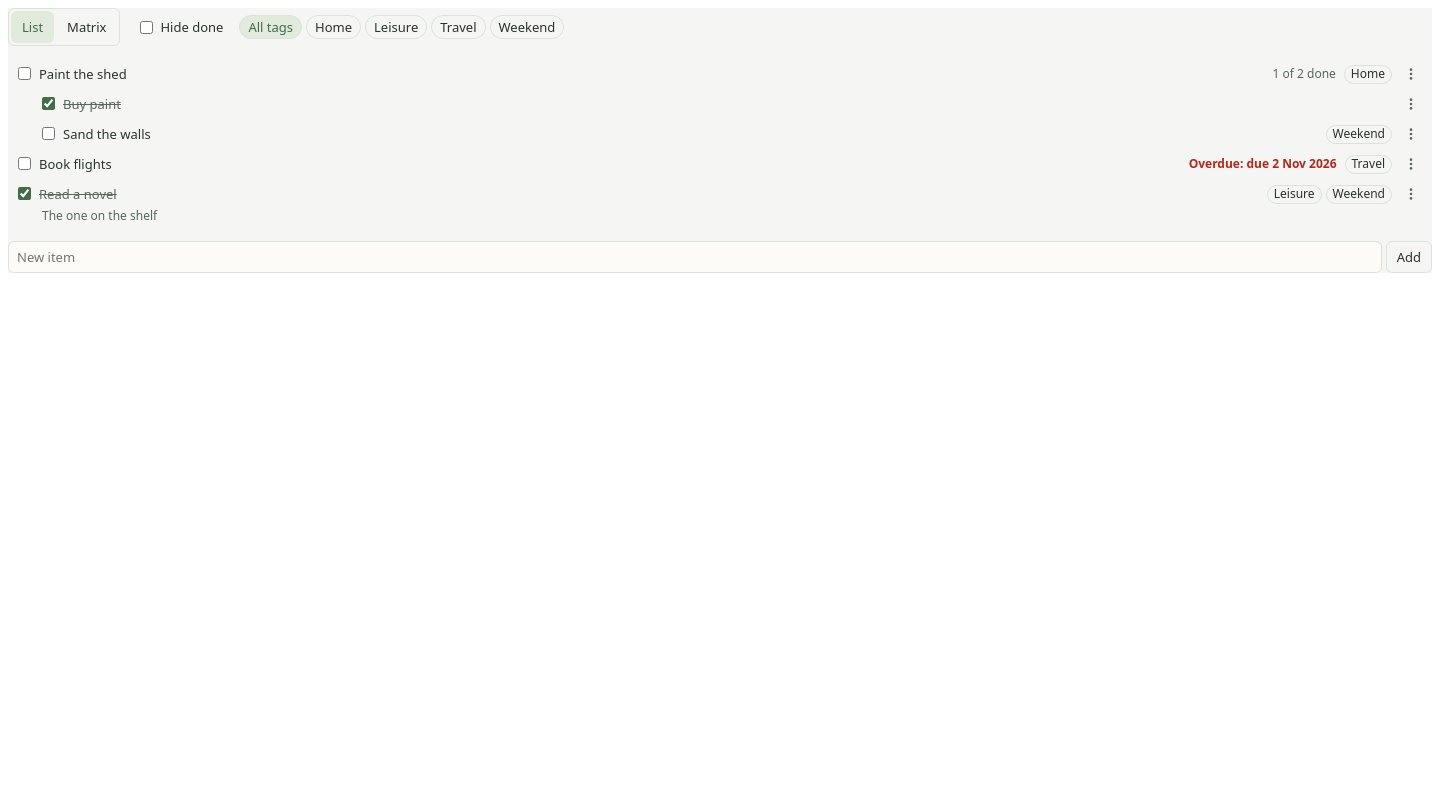
Test: an item's details › closes without saving on Cancel or Escape, giving the focus back
The image size is (1440, 810).
Click the button named "Actions: Book flights".
click(1411, 164)  # box 1400,153 -> 1422,175
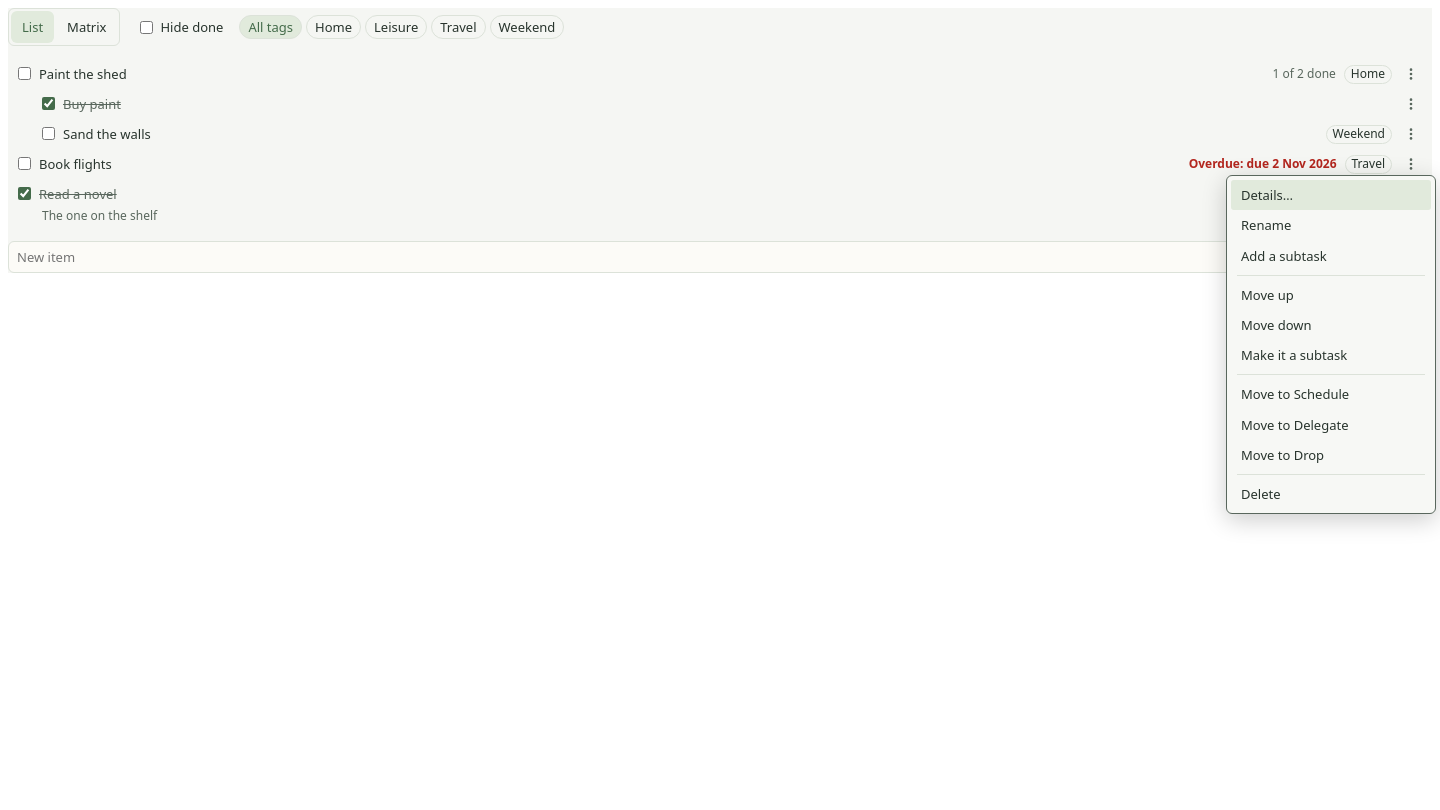
Click the menu item "Details…".
click(1331, 195)  # box 1231,180 -> 1431,210
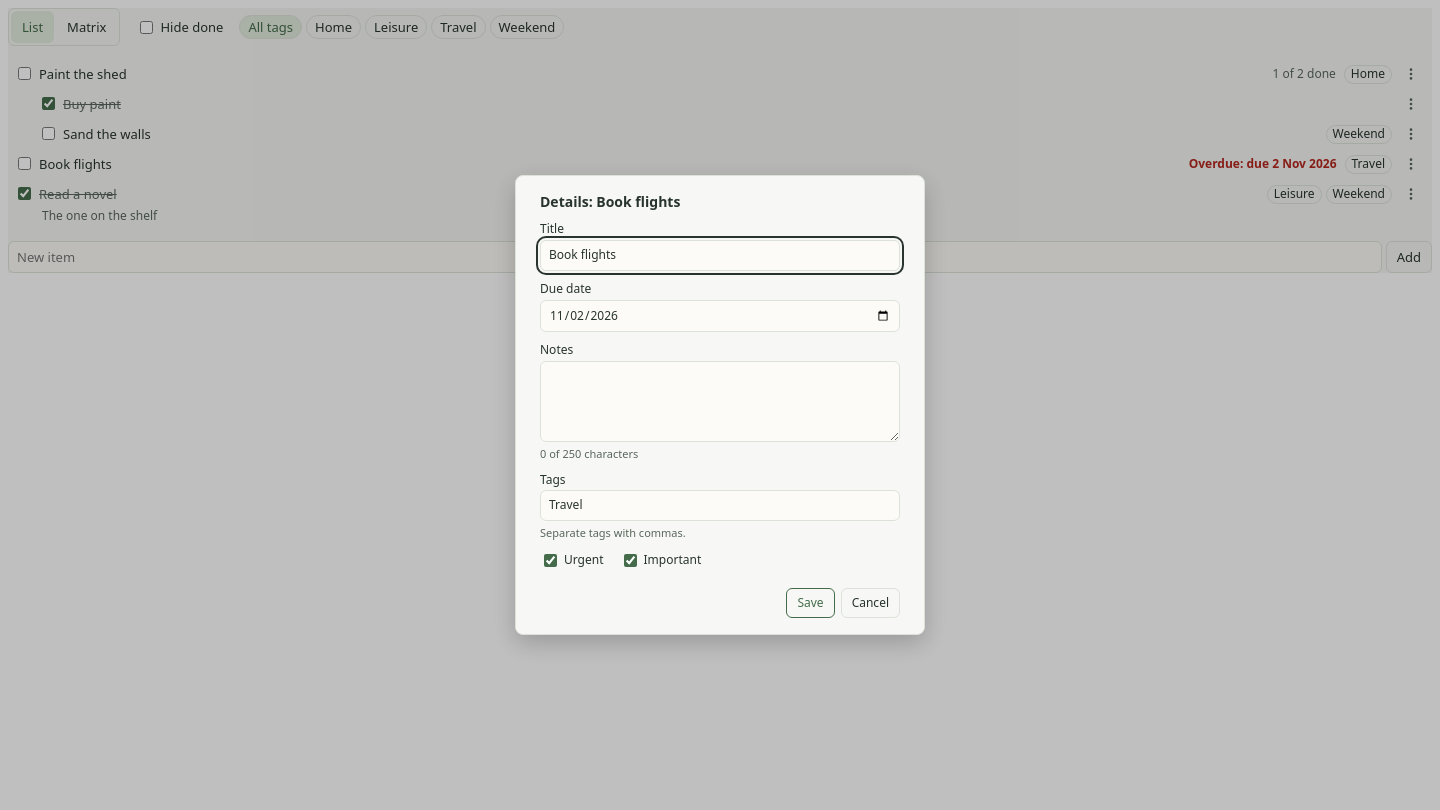
Replace the text in the field labelled "Title" with "Book trains" at (720, 255), box 540,240 -> 900,271
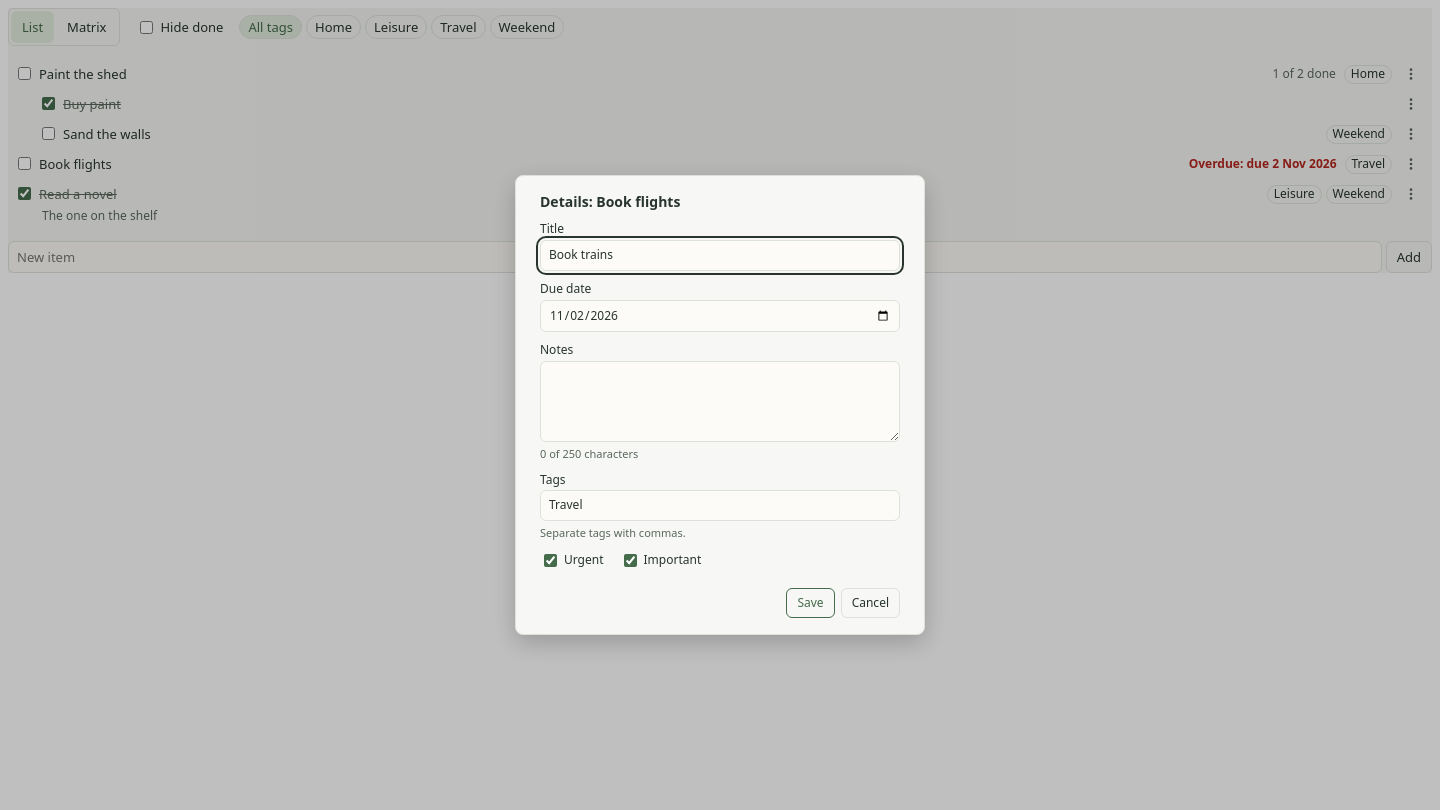
Click the button "Cancel".
click(870, 603)  # box 841,588 -> 900,618
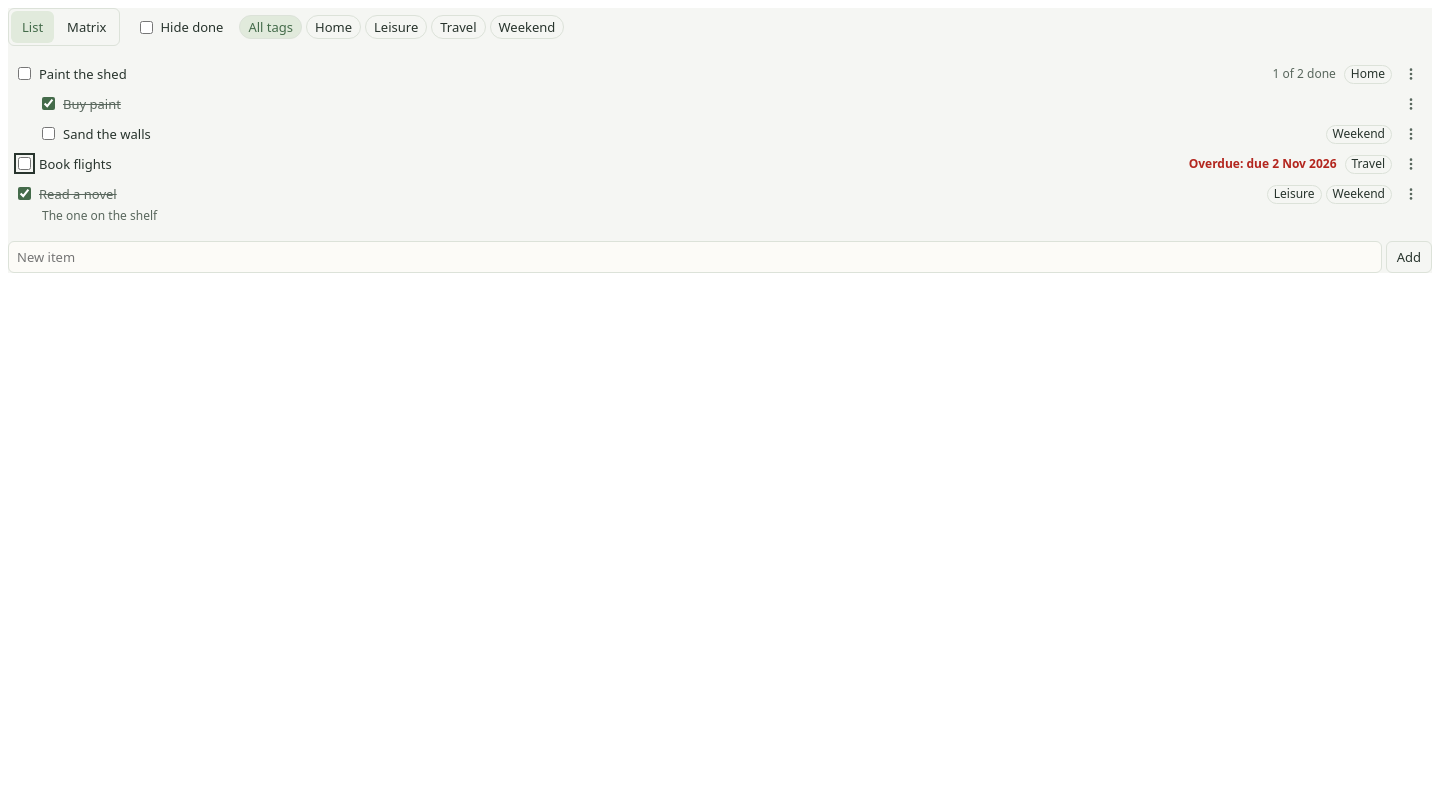
Expected: the dialog is gone
Press Enter in the checkbox named "Book flights", box 18,157 -> 31,170
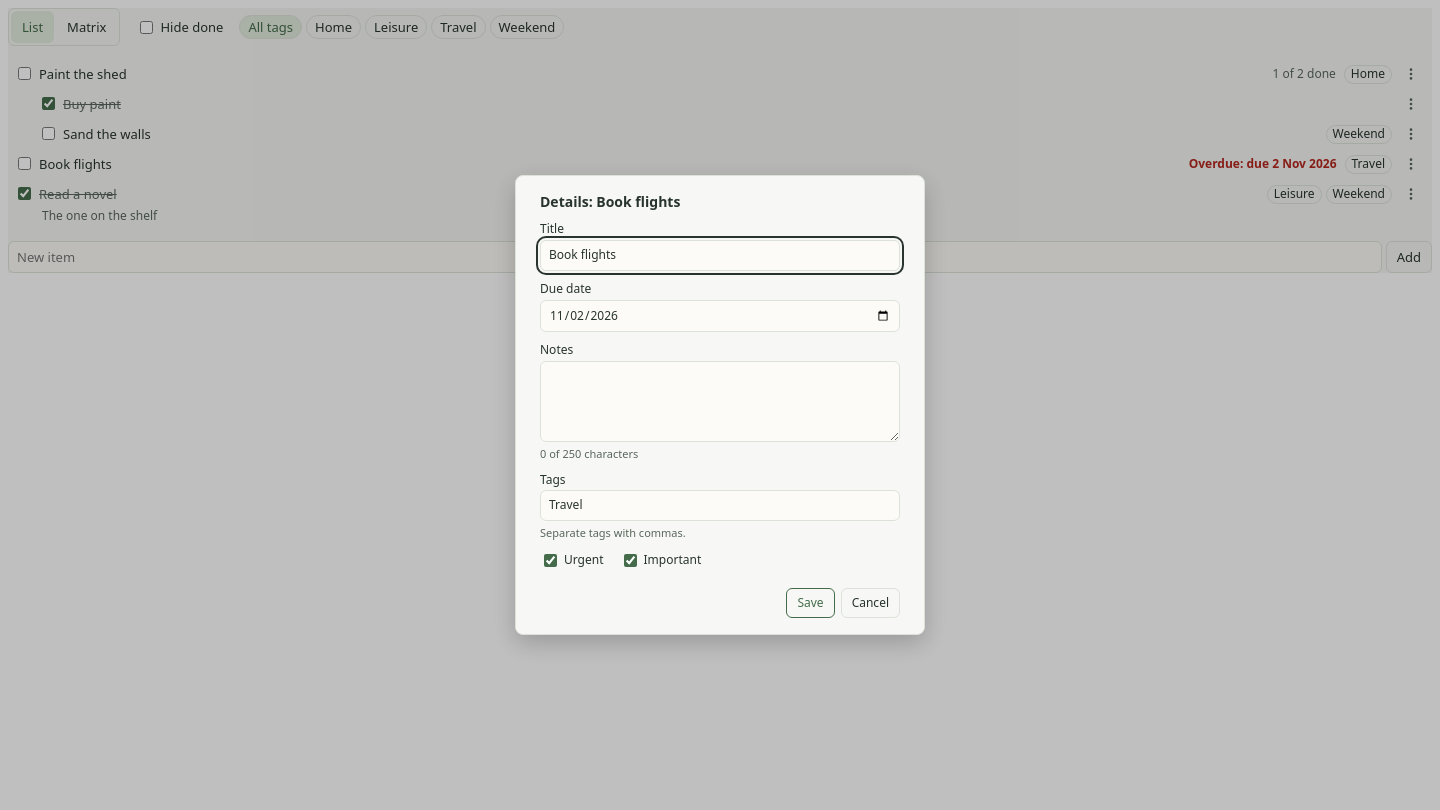
Press Escape in the field labelled "Title", box 540,240 -> 900,271
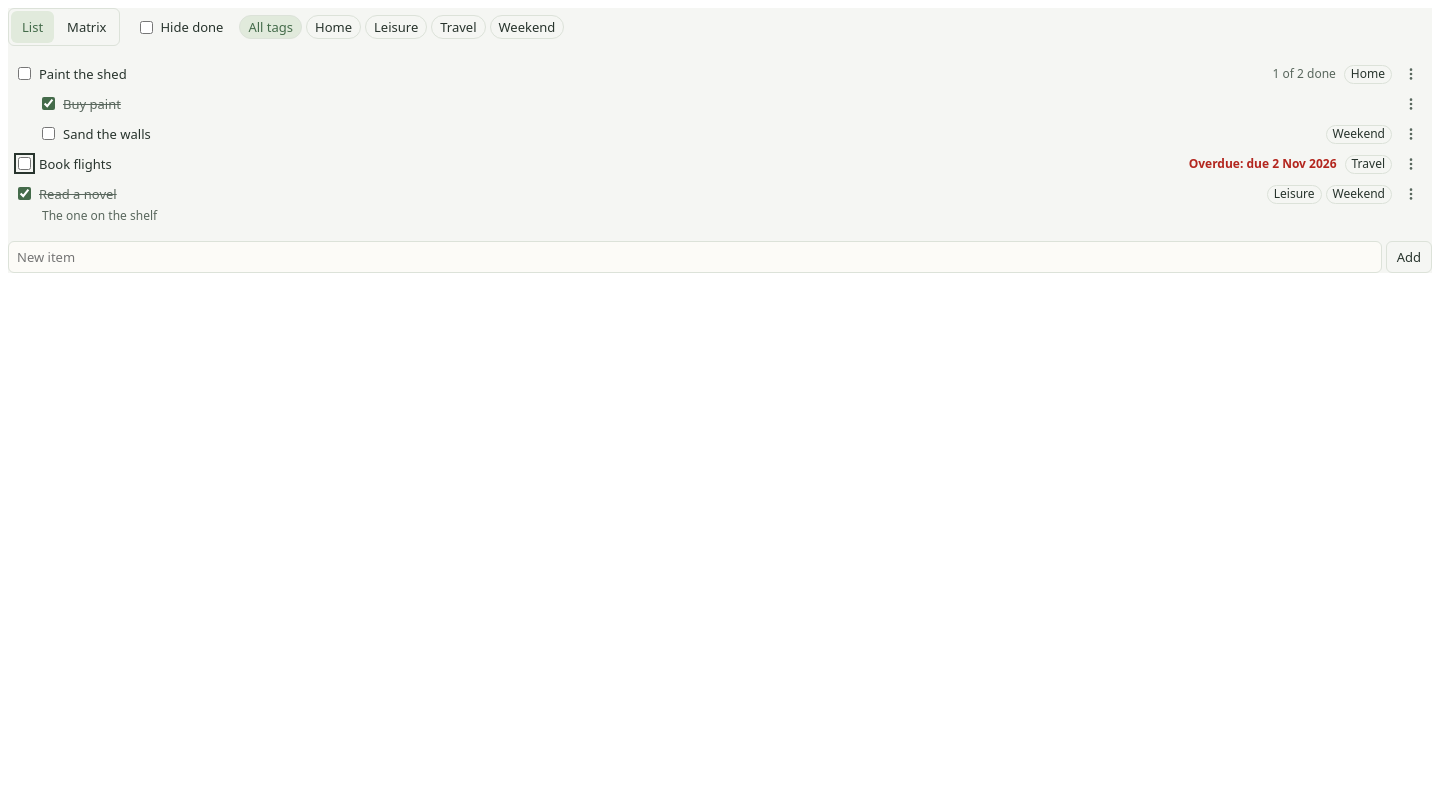
Expected: the dialog is gone
